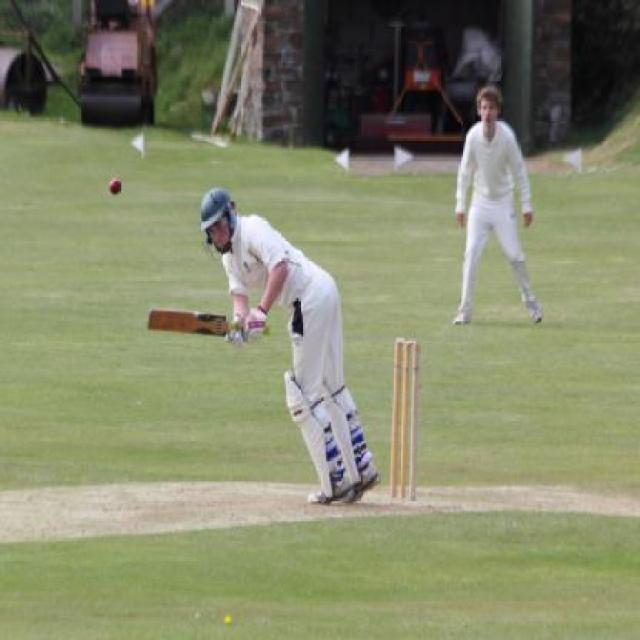-: (103, 170, 126, 204)
